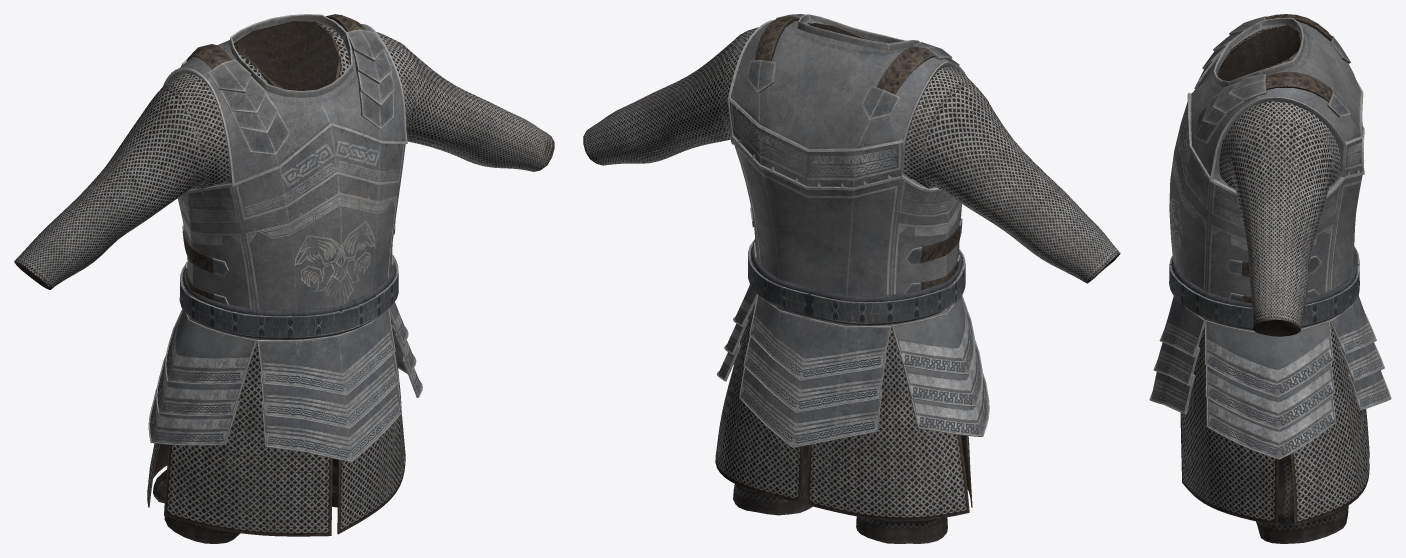
Rendered from sk_dwarf_erebor_chest_plate_elite_c.fbx.
The picture shows the model from 3 angles, left to right: view 1: azimuth 30°, elevation 25°; view 2: azimuth 150°, elevation 25°; view 3: azimuth 270°, elevation 25°; orthographic projection. The views are drawn at different scales.
Visible parts, largest first — view 1: sk_dwarf_erebor_chest_plate_elite_c.3, sk_dwarf_erebor_chest_plate_elite_c.1, sk_dwarf_erebor_chest_plate_elite_c.2, sk_dwarf_erebor_chest_plate_elite_c.0; view 2: sk_dwarf_erebor_chest_plate_elite_c.3, sk_dwarf_erebor_chest_plate_elite_c.1, sk_dwarf_erebor_chest_plate_elite_c.2, sk_dwarf_erebor_chest_plate_elite_c.0; view 3: sk_dwarf_erebor_chest_plate_elite_c.3, sk_dwarf_erebor_chest_plate_elite_c.1, sk_dwarf_erebor_chest_plate_elite_c.2, sk_dwarf_erebor_chest_plate_elite_c.0.
Part boxes in pixels (x1,y1,x2,y2): sk_dwarf_erebor_chest_plate_elite_c.3: (148, 14, 422, 462); sk_dwarf_erebor_chest_plate_elite_c.1: (14, 21, 554, 536); sk_dwarf_erebor_chest_plate_elite_c.2: (181, 14, 395, 304); sk_dwarf_erebor_chest_plate_elite_c.0: (153, 458, 337, 543); sk_dwarf_erebor_chest_plate_elite_c.3: (717, 14, 989, 447); sk_dwarf_erebor_chest_plate_elite_c.1: (583, 23, 1120, 520); sk_dwarf_erebor_chest_plate_elite_c.2: (747, 14, 962, 293); sk_dwarf_erebor_chest_plate_elite_c.0: (733, 435, 962, 543); sk_dwarf_erebor_chest_plate_elite_c.3: (1149, 18, 1391, 459); sk_dwarf_erebor_chest_plate_elite_c.1: (1180, 25, 1369, 525); sk_dwarf_erebor_chest_plate_elite_c.2: (1194, 14, 1350, 302); sk_dwarf_erebor_chest_plate_elite_c.0: (1256, 454, 1348, 543).
Bounding box in the file's own units: 1.16 × 0.4861 × 1.03.
4 materials, 4 textured.
